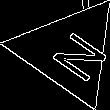N_NW: (34, 20, 103, 82)
